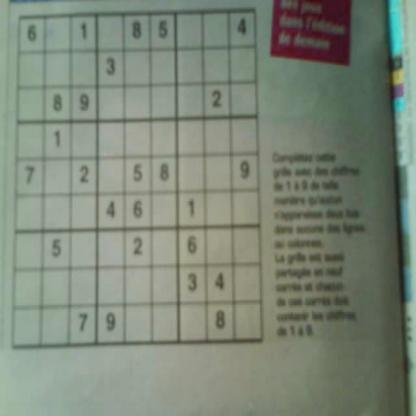sudoku: (9, 4, 267, 354)
